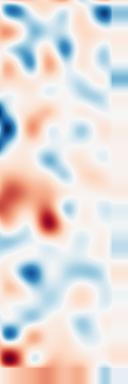filament: (0, 165, 67, 240)
